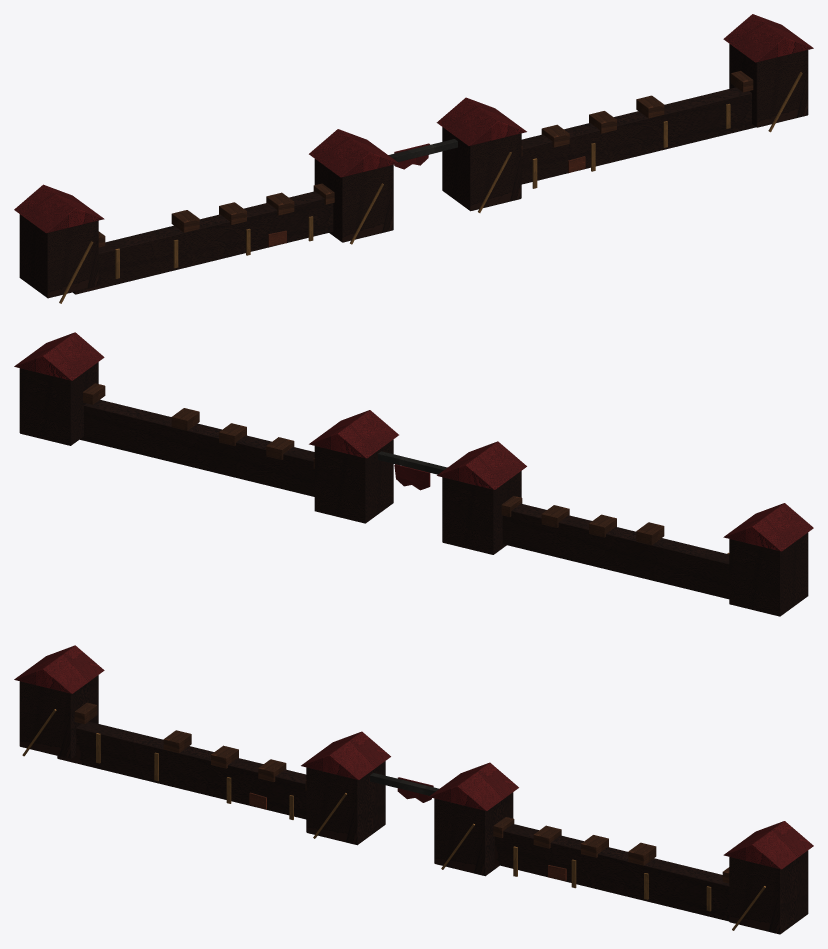
The model's file is fortified_far_bank.glb.
The picture shows the model from 3 angles, top to bottom: view 1: azimuth 30°, elevation 25°; view 2: azimuth 150°, elevation 25°; view 3: azimuth 330°, elevation 25°; orthographic projection.
Parts seen in each view (by area): view 1: fortified_far_bank; view 2: fortified_far_bank; view 3: fortified_far_bank.
Boxes of the visible parts, x1=… form: fortified_far_bank: x1=14, y1=14, x2=813, y2=303; fortified_far_bank: x1=14, y1=332, x2=813, y2=616; fortified_far_bank: x1=14, y1=645, x2=813, y2=934.
Bounding box in the file's own units: 55.21 × 6.95 × 4.55.
1 material, 1 textured.
